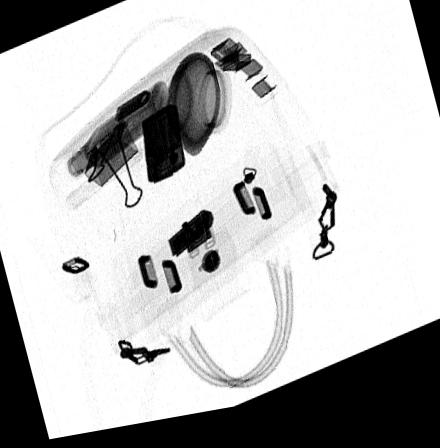Lighter: (140, 108, 186, 189)
